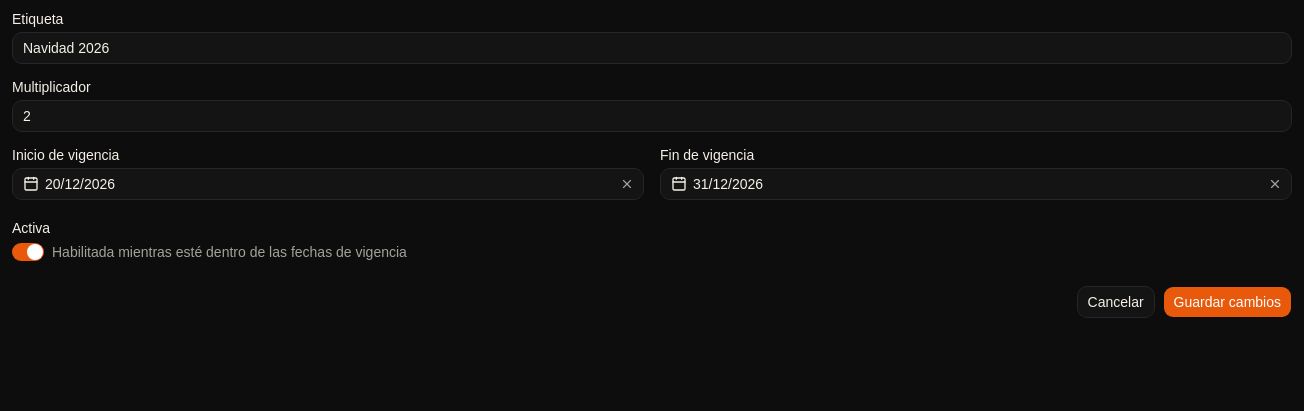
Test: StarPromotionForm mapeo de errores del servidor › un 400 sin la palabra "fechas" se muestra como error general del form
Click the button "Guardar cambios" at (1227, 302), box [1163,286,1292,318]
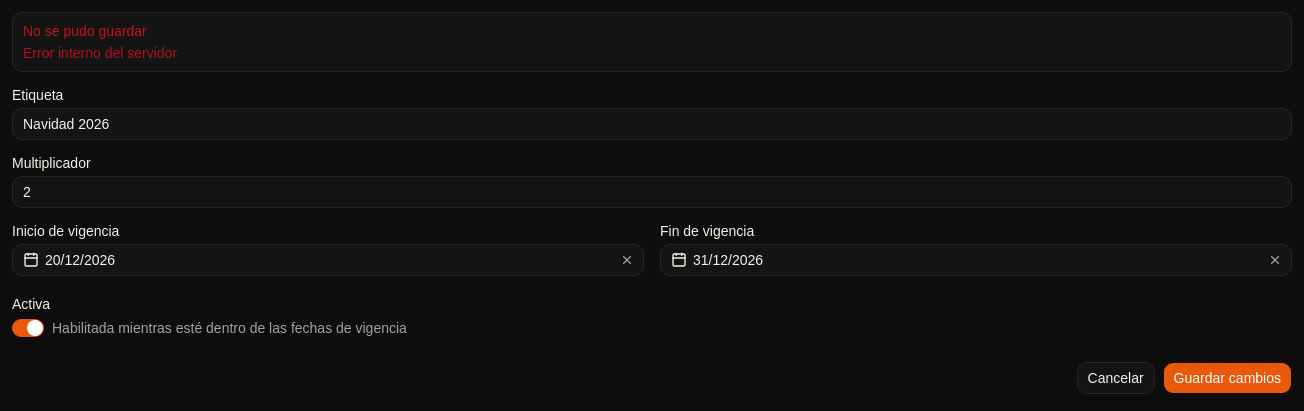
Expected: the text "No se pudo guardar" is shown, [23,23,147,39]
Expected: the text "Error interno del servidor" is shown, [23,45,177,61]
